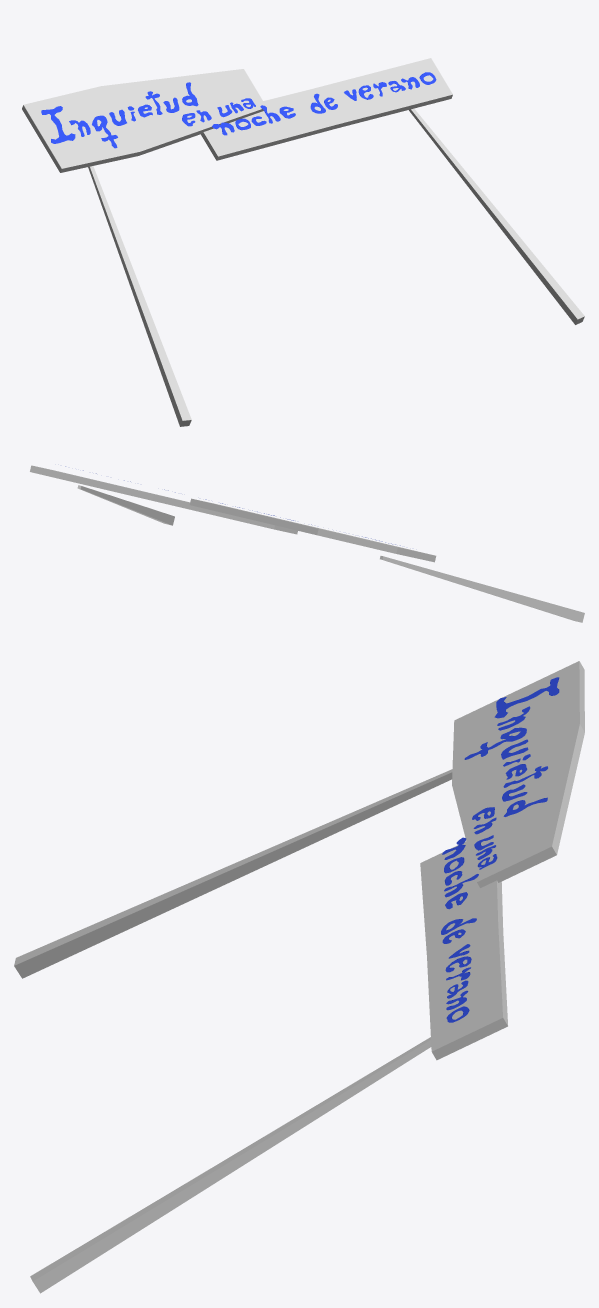
Rendered from titulo.fbx.
3 views of the same model, one above another, from view 1: azimuth 30°, elevation 25°; view 2: azimuth 150°, elevation 25°; view 3: azimuth 270°, elevation 25° (orthographic). The views are drawn at different scales.
Visible parts, largest first — view 1: Plane, cartel, titulo; view 2: Plane, cartel; view 3: Plane, cartel, titulo.
Part boxes in pixels (bbox=[...]): Plane: bbox=[22, 58, 452, 172]; cartel: bbox=[88, 108, 584, 426]; titulo: bbox=[41, 72, 436, 148]; Plane: bbox=[30, 465, 436, 562]; cartel: bbox=[77, 485, 584, 622]; Plane: bbox=[420, 661, 584, 1060]; cartel: bbox=[14, 769, 452, 1293]; titulo: bbox=[441, 677, 559, 1022].
Bounding box in the file's own units: 443 × 204 × 328.
